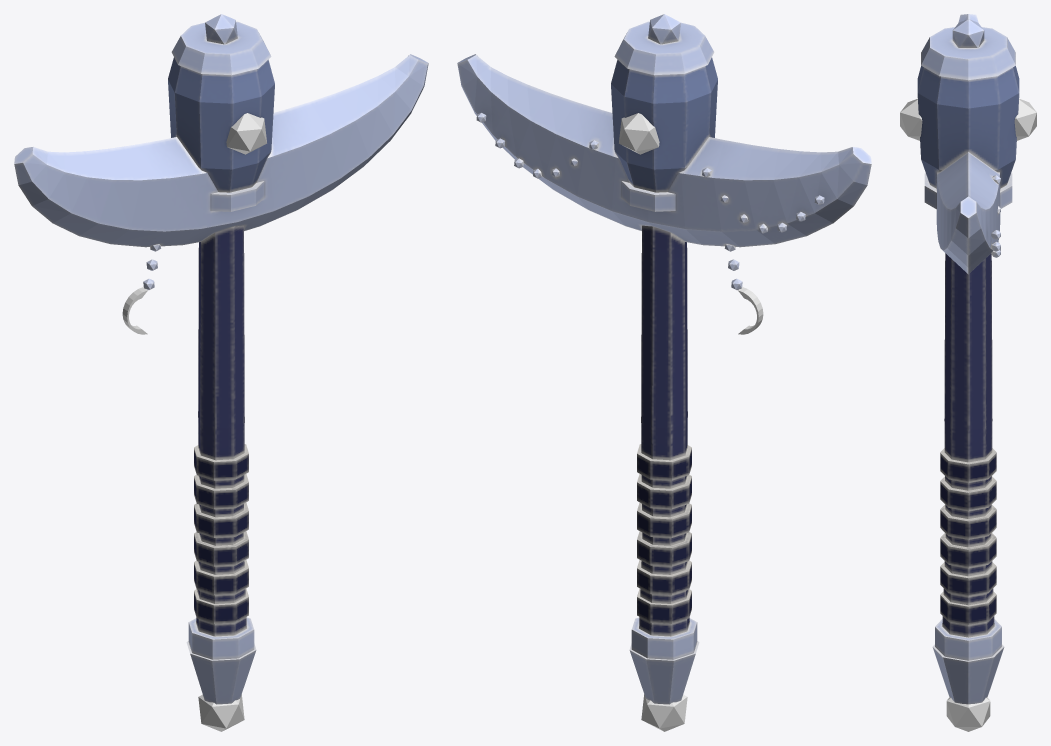
Rendered from MoonlitPickaxe.glb.
The picture shows the model from 3 angles, left to right: view 1: azimuth 30°, elevation 25°; view 2: azimuth 150°, elevation 25°; view 3: azimuth 270°, elevation 25°; orthographic projection.
Parts seen in each view (by area): view 1: Body__Tex, Head__Gem; view 2: Body__Tex, Head__Gem; view 3: Body__Tex, Head__Gem.
Boxes of the visible parts, x1,y1,x2,y2 form: Body__Tex: (14, 14, 428, 704); Head__Gem: (198, 113, 266, 731); Body__Tex: (457, 14, 871, 704); Head__Gem: (619, 113, 687, 731); Body__Tex: (917, 14, 1019, 704); Head__Gem: (900, 98, 1036, 731).
Size of the model in its own units: 2.57 by 4.26 by 0.7412.
Materials: 1 (1 with a texture image).
